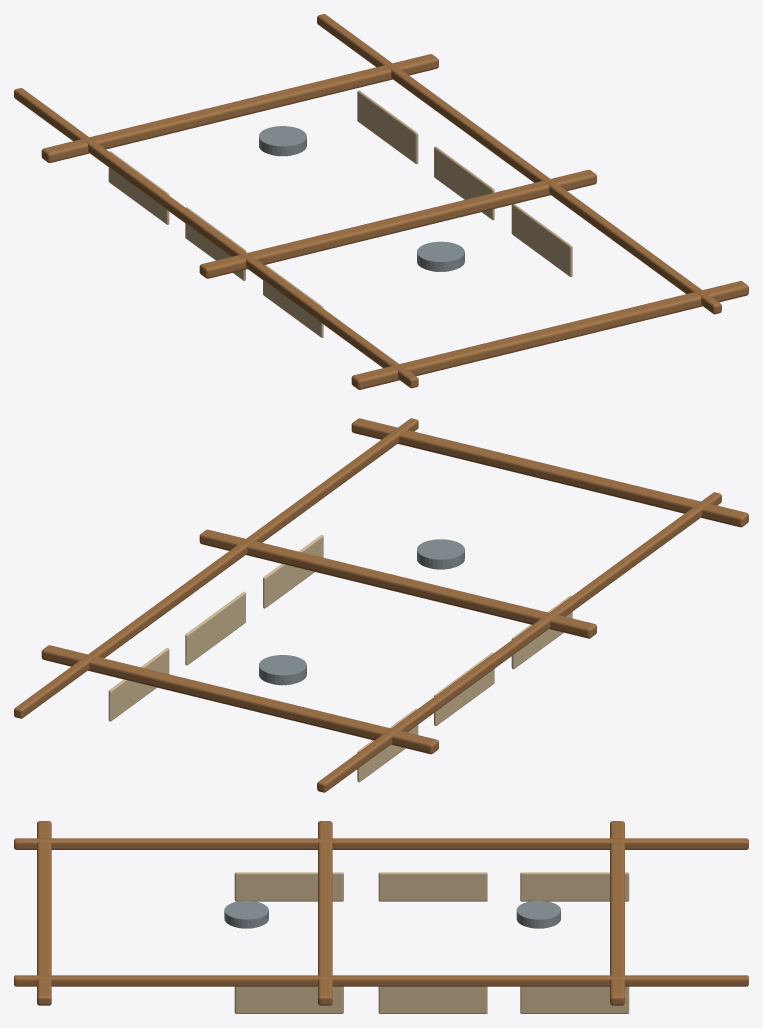
The model's file is cabin-fittings.fbx.
The picture shows the model from 3 angles, top to bottom: view 1: azimuth 30°, elevation 25°; view 2: azimuth 150°, elevation 25°; view 3: azimuth 270°, elevation 25°; orthographic projection. The views are drawn at different scales.
Visible parts, largest first — view 1: GEO-refine_cabin_roof_edge.001, GEO-refine_cabin_roof_edge, GEO-refine_cabin_roof_crossrib.001, GEO-refine_cabin_roof_crossrib, GEO-refine_cabin_roof_crossrib.002, GEO-refine_cabin_inset_panel.005, GEO-refine_cabin_inset_panel.003, GEO-refine_cabin_inset_panel.004, GEO-refine_cabin_lamp_mount, GEO-refine_cabin_lamp_mount.001, GEO-refine_cabin_inset_panel.002, GEO-refine_cabin_inset_panel (+1 smaller); view 2: GEO-refine_cabin_roof_edge.001, GEO-refine_cabin_roof_edge, GEO-refine_cabin_roof_crossrib.001, GEO-refine_cabin_roof_crossrib, GEO-refine_cabin_roof_crossrib.002, GEO-refine_cabin_inset_panel.004, GEO-refine_cabin_inset_panel.005, GEO-refine_cabin_inset_panel.003, GEO-refine_cabin_lamp_mount, GEO-refine_cabin_lamp_mount.001, GEO-refine_cabin_inset_panel.001, GEO-refine_cabin_inset_panel (+1 smaller); view 3: GEO-refine_cabin_roof_edge, GEO-refine_cabin_roof_edge.001, GEO-refine_cabin_inset_panel.001, GEO-refine_cabin_inset_panel.004, GEO-refine_cabin_inset_panel, GEO-refine_cabin_inset_panel.002, GEO-refine_cabin_inset_panel.003, GEO-refine_cabin_inset_panel.005, GEO-refine_cabin_roof_crossrib.001, GEO-refine_cabin_roof_crossrib.002, GEO-refine_cabin_roof_crossrib, GEO-refine_cabin_lamp_mount.001 (+1 smaller).
Boxes of the visible parts, left/top/right/bottom form: GEO-refine_cabin_roof_edge.001: left=317, top=14, right=721, bottom=314; GEO-refine_cabin_roof_edge: left=14, top=88, right=418, bottom=388; GEO-refine_cabin_roof_crossrib.001: left=199, top=169, right=596, bottom=278; GEO-refine_cabin_roof_crossrib: left=351, top=281, right=748, bottom=389; GEO-refine_cabin_roof_crossrib.002: left=41, top=54, right=438, bottom=162; GEO-refine_cabin_inset_panel.005: left=357, top=90, right=418, bottom=163; GEO-refine_cabin_inset_panel.003: left=511, top=204, right=572, bottom=276; GEO-refine_cabin_inset_panel.004: left=434, top=146, right=494, bottom=220; GEO-refine_cabin_lamp_mount: left=417, top=241, right=464, bottom=271; GEO-refine_cabin_lamp_mount.001: left=259, top=126, right=306, bottom=155; GEO-refine_cabin_inset_panel.002: left=108, top=151, right=169, bottom=224; GEO-refine_cabin_inset_panel: left=263, top=264, right=323, bottom=337; GEO-refine_cabin_roof_edge.001: left=14, top=418, right=418, bottom=718; GEO-refine_cabin_roof_edge: left=317, top=492, right=721, bottom=792; GEO-refine_cabin_roof_crossrib.001: left=199, top=529, right=596, bottom=638; GEO-refine_cabin_roof_crossrib: left=351, top=418, right=748, bottom=527; GEO-refine_cabin_roof_crossrib.002: left=41, top=645, right=438, bottom=754; GEO-refine_cabin_inset_panel.004: left=185, top=591, right=245, bottom=665; GEO-refine_cabin_inset_panel.005: left=108, top=648, right=169, bottom=721; GEO-refine_cabin_inset_panel.003: left=263, top=535, right=323, bottom=608; GEO-refine_cabin_lamp_mount: left=417, top=539, right=464, bottom=569; GEO-refine_cabin_lamp_mount.001: left=259, top=655, right=306, bottom=684; GEO-refine_cabin_inset_panel.001: left=434, top=652, right=494, bottom=726; GEO-refine_cabin_inset_panel: left=511, top=595, right=572, bottom=669; GEO-refine_cabin_roof_edge: left=14, top=838, right=748, bottom=849; GEO-refine_cabin_roof_edge.001: left=14, top=975, right=748, bottom=986; GEO-refine_cabin_inset_panel.001: left=378, top=872, right=487, bottom=901; GEO-refine_cabin_inset_panel.004: left=378, top=986, right=487, bottom=1013; GEO-refine_cabin_inset_panel: left=234, top=872, right=343, bottom=901; GEO-refine_cabin_inset_panel.002: left=520, top=872, right=629, bottom=901; GEO-refine_cabin_inset_panel.003: left=234, top=986, right=343, bottom=1013; GEO-refine_cabin_inset_panel.005: left=520, top=986, right=629, bottom=1013; GEO-refine_cabin_roof_crossrib.001: left=318, top=821, right=332, bottom=1005; GEO-refine_cabin_roof_crossrib.002: left=610, top=821, right=624, bottom=1005; GEO-refine_cabin_roof_crossrib: left=37, top=821, right=51, bottom=1005; GEO-refine_cabin_lamp_mount.001: left=516, top=900, right=560, bottom=928.
Size of the model in its own units: 1.86 by 0.2435 by 3.27.
